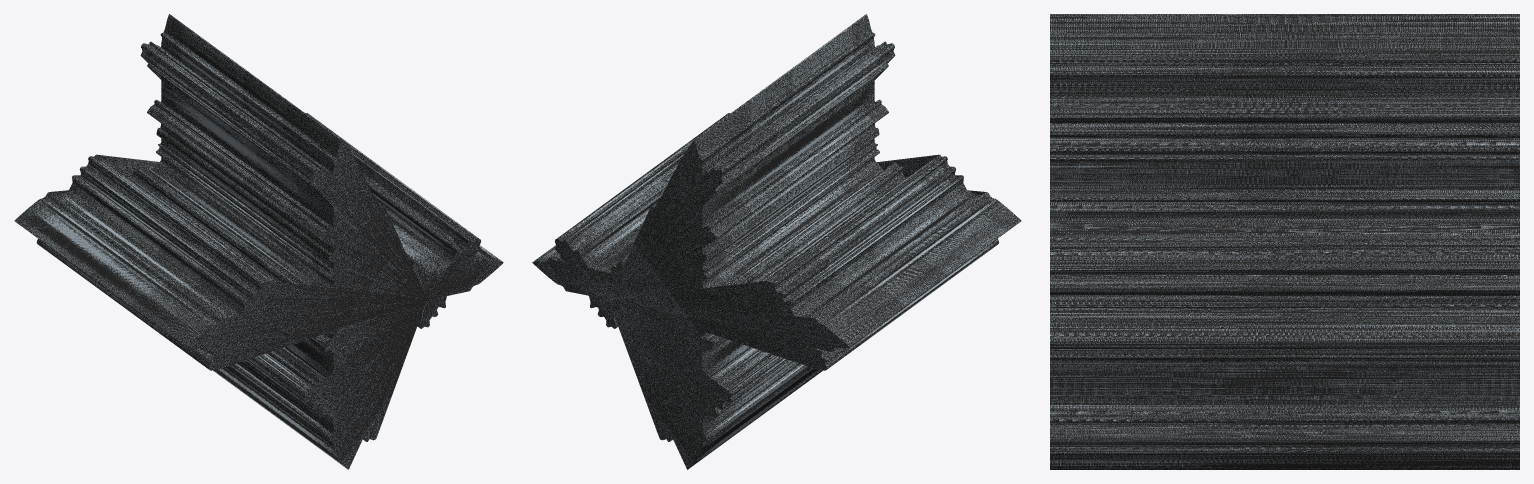
File: obstacle5.fbx
The picture shows the model from 3 angles, left to right: view 1: azimuth 30°, elevation 25°; view 2: azimuth 150°, elevation 25°; view 3: azimuth 270°, elevation 25°; orthographic projection. The views are drawn at different scales.
Visible parts, largest first — view 1: Group1; view 2: Group1; view 3: Group1.
Part boxes in pixels (<box>): Group1: <box>14,14,503,469</box>; Group1: <box>532,14,1021,469</box>; Group1: <box>1050,14,1519,469</box>.
Bounding box in the file's own units: 2124 × 2121 × 2000.
